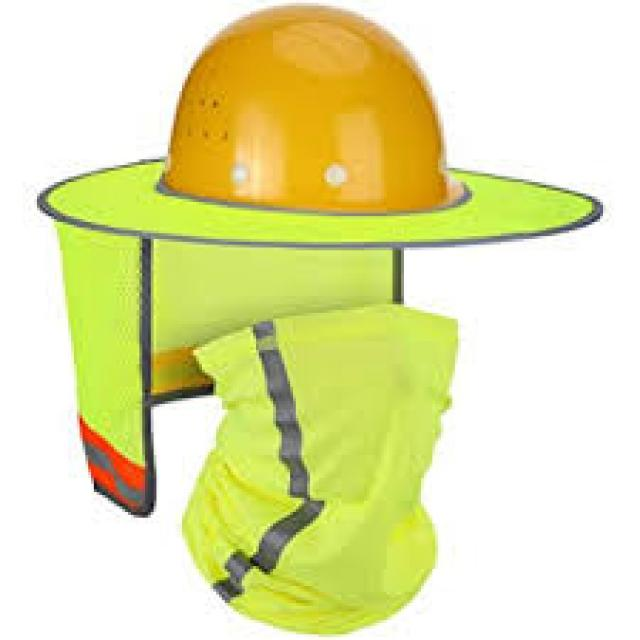Reflective-Jacket: (175, 298, 632, 640)
Safety-Helmet: (97, 3, 589, 239)
